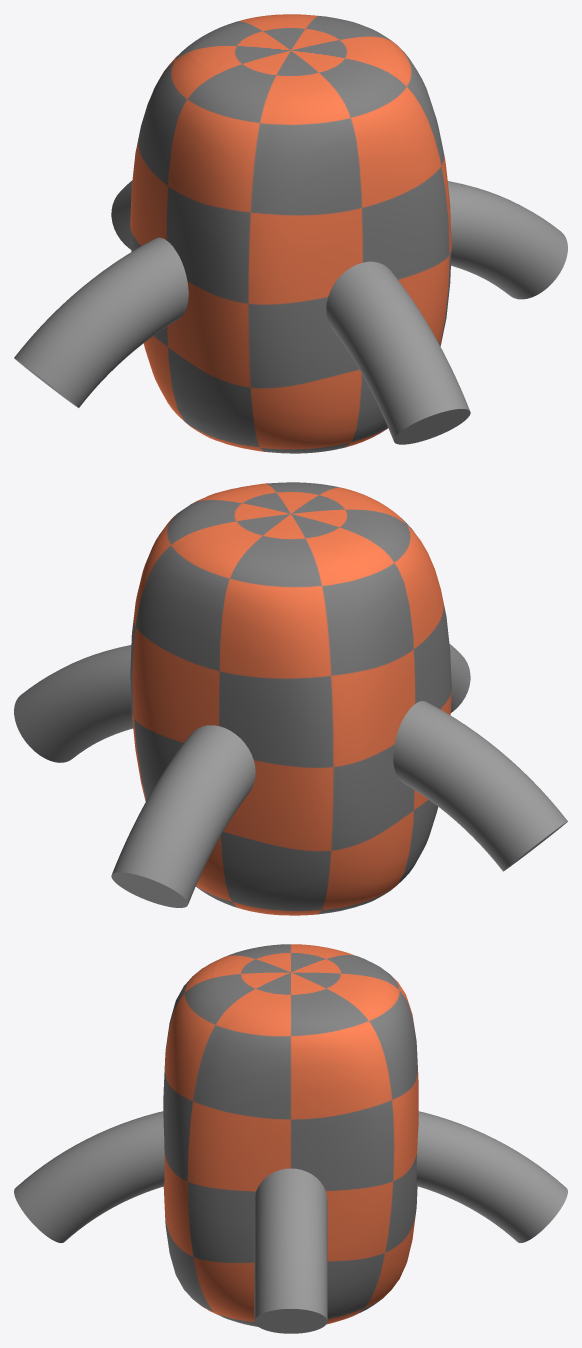
File: Body(Oblong)+Colour(More_Orange)+Pattern(Checkered)+Arm_Angle(Bent_Down).fbx
3 renders of one model, top to bottom at view 1: azimuth 30°, elevation 25°; view 2: azimuth 150°, elevation 25°; view 3: azimuth 270°, elevation 25°, orthographic. The views are drawn at different scales.
Parts seen in each view (by area): view 1: Body(Oblong)+Colour(More_Orange)+Pattern(Checkered)+Arm_Angl (×5); view 2: Body(Oblong)+Colour(More_Orange)+Pattern(Checkered)+Arm_Angl (×5); view 3: Body(Oblong)+Colour(More_Orange)+Pattern(Checkered)+Arm_Angl (×4).
Part boxes in pixels (left/top/right/bottom): Body(Oblong)+Colour(More_Orange)+Pattern(Checkered)+Arm_Angl (×5): left=14, top=14, right=567, bottom=453; Body(Oblong)+Colour(More_Orange)+Pattern(Checkered)+Arm_Angl (×5): left=14, top=482, right=567, bottom=915; Body(Oblong)+Colour(More_Orange)+Pattern(Checkered)+Arm_Angl (×4): left=14, top=944, right=567, bottom=1333.
Size of the model in its own units: 60.67 by 40 by 60.67.
Materials: 2 (1 with a texture image).
